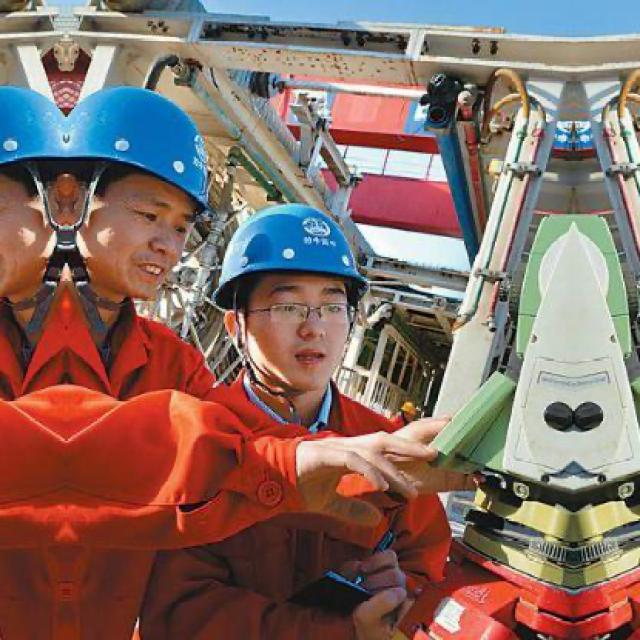con casco: (220, 166, 414, 472), (67, 37, 227, 322)
